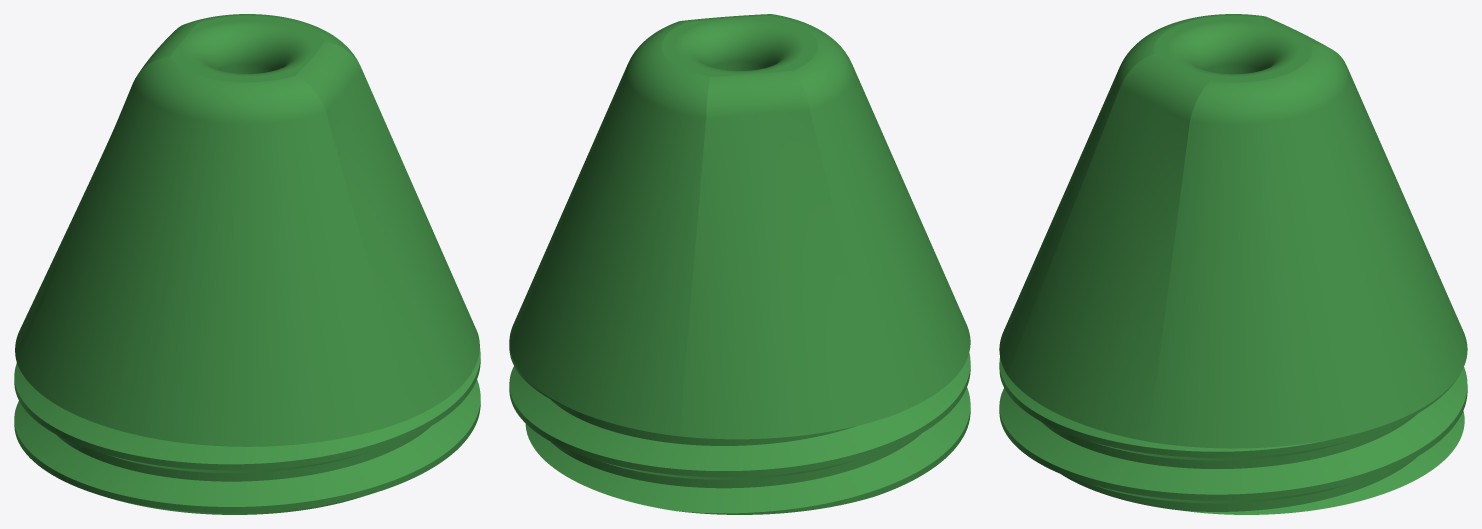
Rendered from ShakerV2_v75_ShakerV2 v75_Nozzle_1_Body1_Nozzle.obj.
3 renders of one model, left to right at view 1: azimuth 30°, elevation 25°; view 2: azimuth 150°, elevation 25°; view 3: azimuth 270°, elevation 25°, orthographic.
Parts seen in each view (by area): view 1: Body1; view 2: Body1; view 3: Body1.
Boxes of the visible parts, <box> form: Body1: <box>14,14,480,514</box>; Body1: <box>509,14,970,514</box>; Body1: <box>999,14,1467,514</box>.
Bounding box in the file's own units: 14.55 × 12.92 × 14.55.
